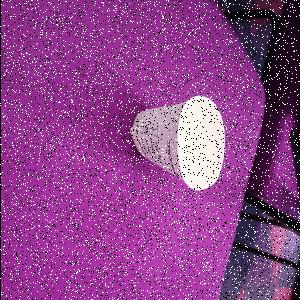Cup: (129, 95, 226, 193)
